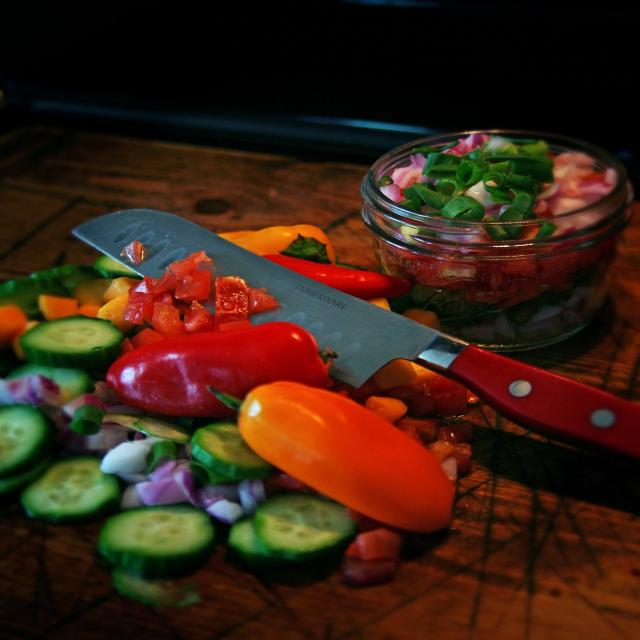knife: (73, 212, 639, 456)
